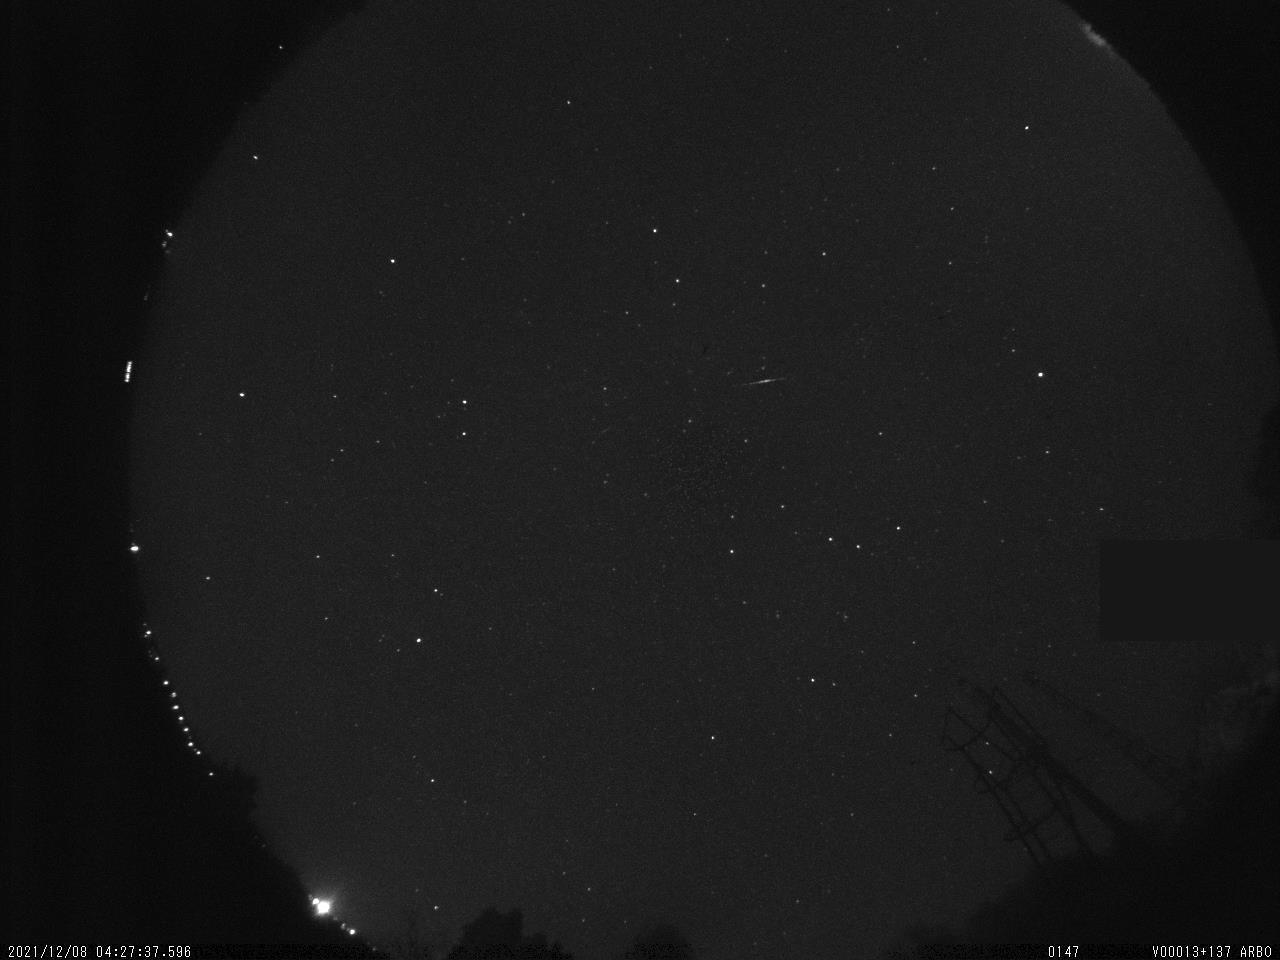meteor: (730, 354, 804, 398)
